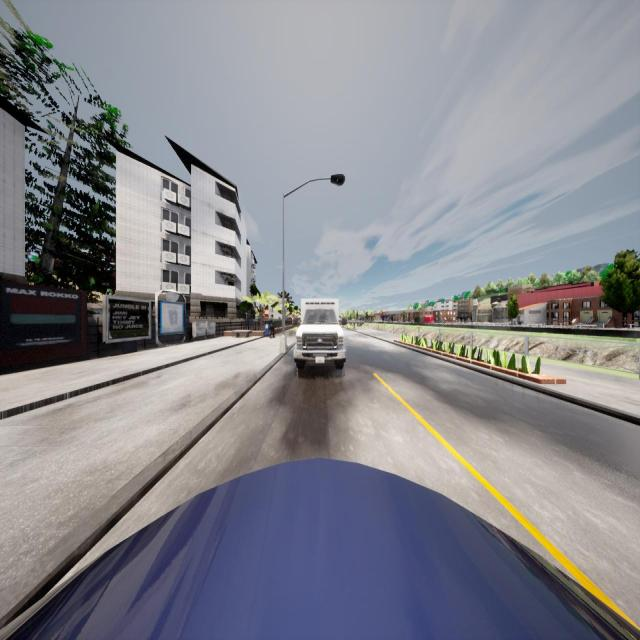Pedestrian: (268, 312, 277, 340)
Vehicle: (1, 458, 640, 640), (294, 298, 345, 371)
